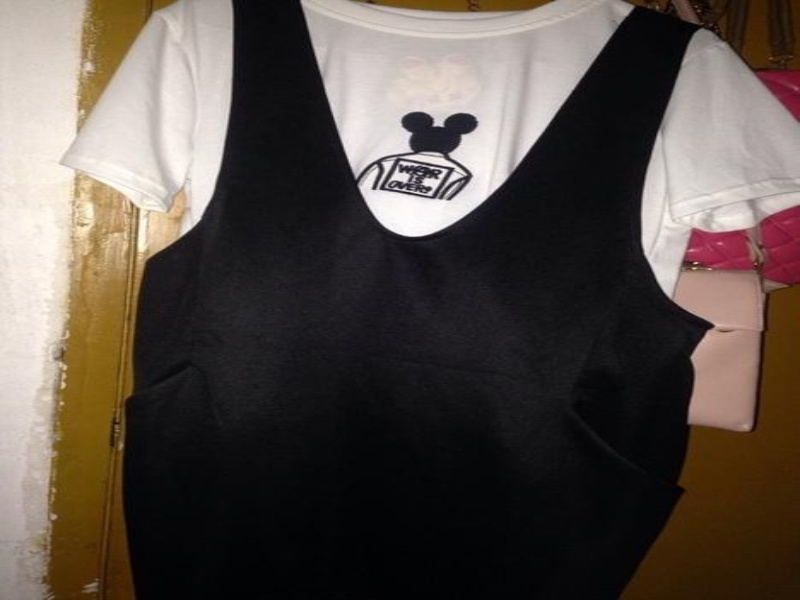short_sleeved_shirt: (56, 0, 798, 404)
vest_dress: (118, 0, 721, 599)
